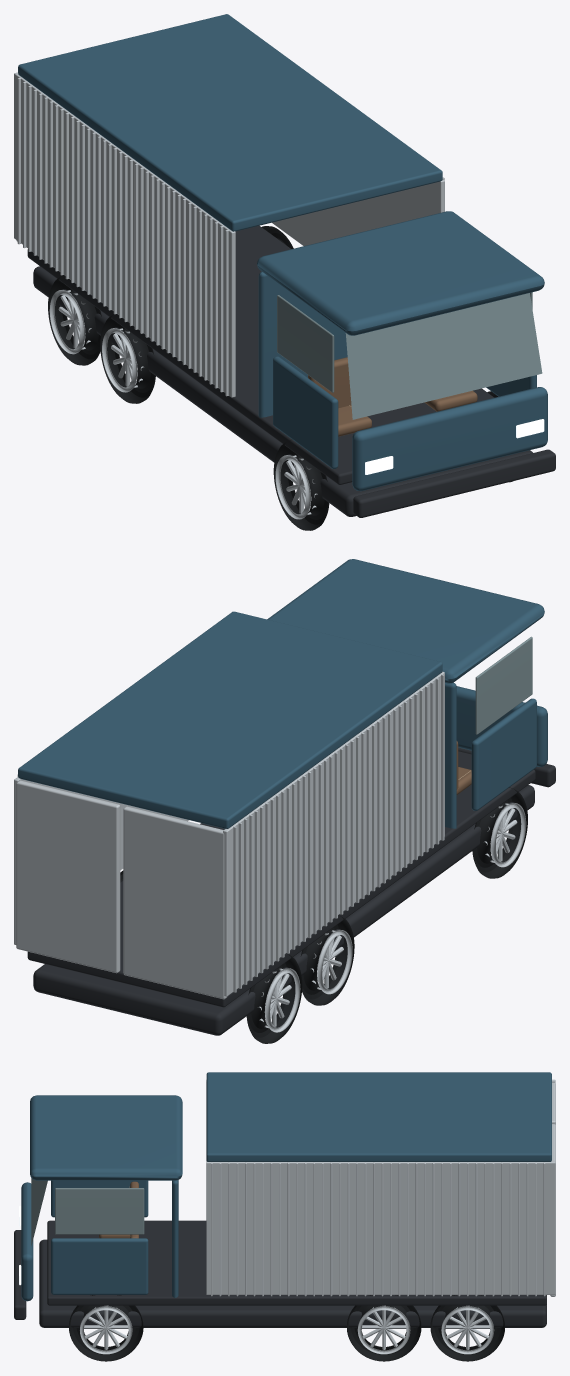
File: truck.glb
3 views of the same model, one above another, from view 1: azimuth 30°, elevation 25°; view 2: azimuth 150°, elevation 25°; view 3: azimuth 270°, elevation 25° (orthographic). The views are drawn at different scales.
Visible parts, largest first — view 1: CargoRoof, CabRoof, CargoWall, Windscreen, FrontPanel, Floor, Chassis, CargoWall.001, DoorShell, FrontBumper, CabRear, SideWindow (+48 smaller); view 2: CargoRoof, CargoWall, CargoDoor.001, CargoDoor, CabRoof, Chassis, Floor, DoorShell, SideWindow, FrontPanel, LeftRearWheelTyre, LeftFrontWheelTyre (+46 smaller); view 3: CargoWall.001, CargoRoof, CabRoof, Floor, Chassis, DoorShell.001, SideWindow.001, RightRearWheelTyre, RightRearSecondWheelTyre, RightFrontWheelTyre, FrontPanel, DoorShell (+25 smaller).
Part boxes in pixels (x1,y1,x2,y2): CargoRoof: (18,14,442,231); CabRoof: (257,211,544,335); CargoWall: (14,72,235,397); Windscreen: (345,293,542,419); FrontPanel: (352,387,547,491); Floor: (27,225,493,484); Chassis: (33,266,532,516); CargoWall.001: (272,179,444,245); DoorShell: (273,356,338,468); FrontBumper: (353,449,555,517); CabRear: (258,272,347,417); SideWindow: (277,295,334,392); CargoRoof: (18,611,442,828); CargoWall: (223,671,444,996); CargoDoor.001: (16,780,120,973); CargoDoor: (123,806,227,999); CabRoof: (267,559,544,683); Chassis: (33,785,534,1035); Floor: (27,751,535,1007); DoorShell: (471,698,536,810); SideWindow: (475,636,532,734); FrontPanel: (456,686,547,766); LeftRearWheelTyre: (246,953,302,1043); LeftFrontWheelTyre: (472,787,527,878); CargoWall.001: (206,1161,555,1294); CargoRoof: (206,1072,551,1161); CabRoof: (30,1095,182,1180); Floor: (47,1220,546,1305); Chassis: (39,1239,546,1327); DoorShell.001: (51,1238,148,1294); SideWindow.001: (55,1188,144,1234); RightRearWheelTyre: (430,1295,505,1361); RightRearSecondWheelTyre: (346,1295,421,1361); RightFrontWheelTyre: (69,1295,143,1361); FrontPanel: (21,1182,33,1301); DoorShell: (51,1180,148,1217).
Size of the model in its own units: 2.5 by 2.84 by 6.67.
